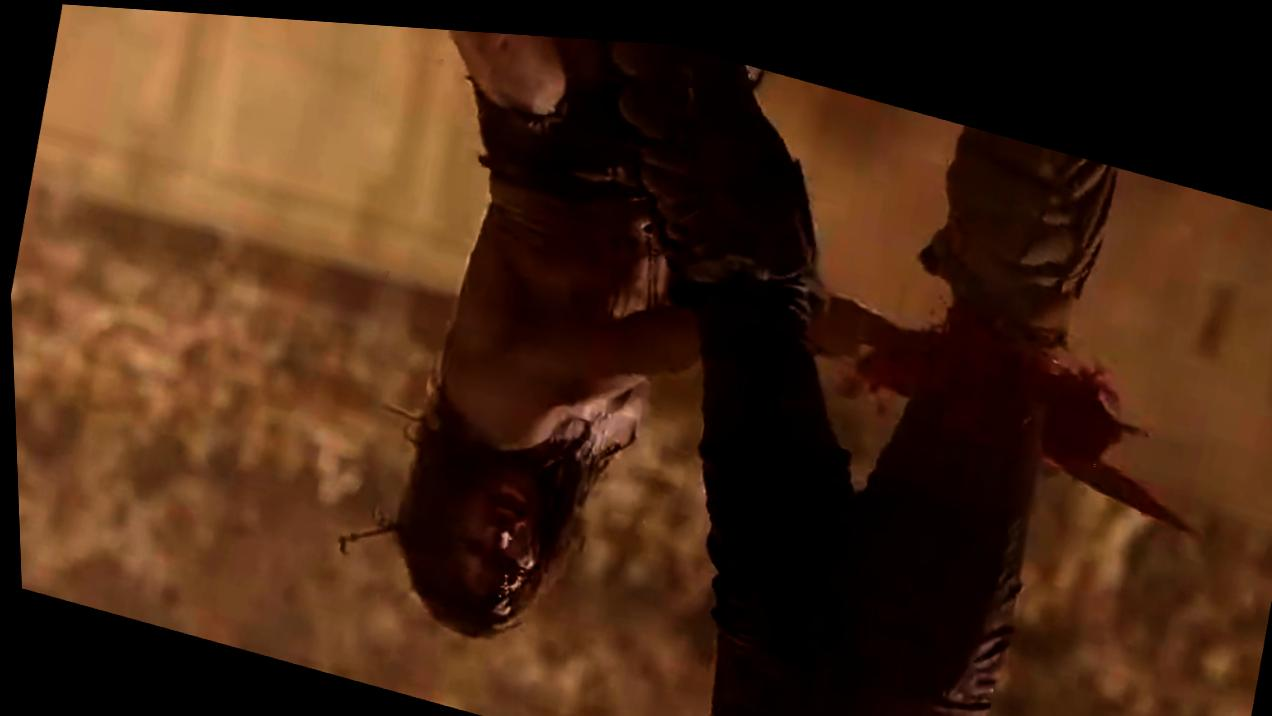Fire: (1038, 357, 1188, 518), (447, 446, 539, 591), (855, 302, 940, 384)
